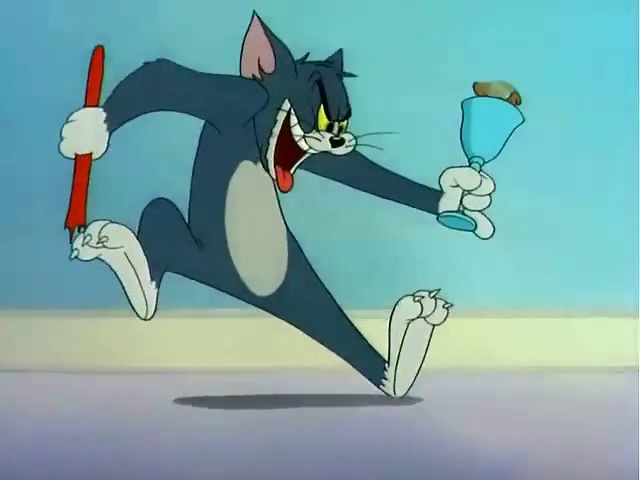tom: (76, 19, 460, 408)
